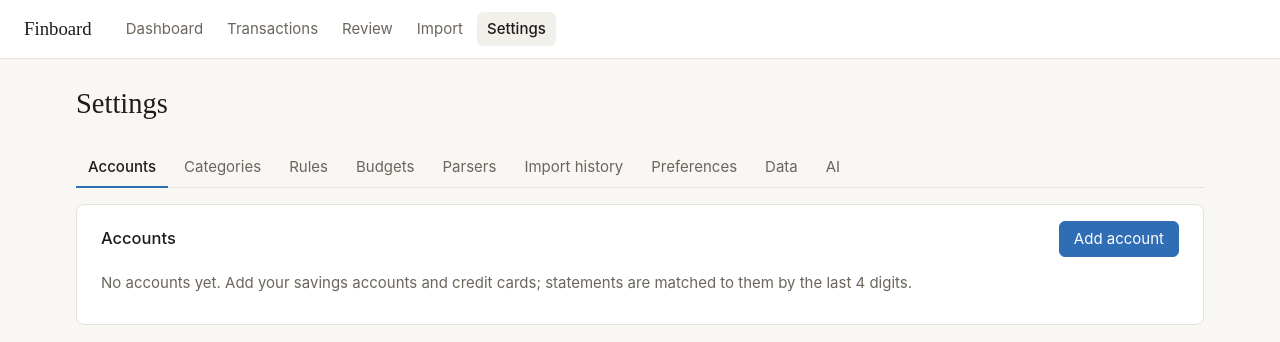
it: app shell › redirects /settings to the accounts tab and switches tabs
This screenshot has width=1280, height=342.
Expected: the heading "Accounts" is shown, [101, 227, 176, 251]
Click the link "Categories": (223, 167) [184, 157, 261, 176]
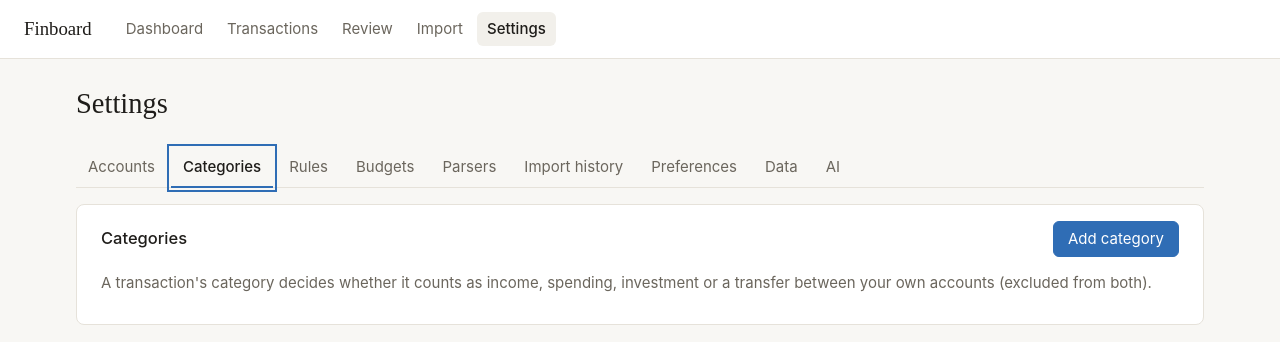
Now the heading "Categories" is shown, box [101, 227, 187, 251]
